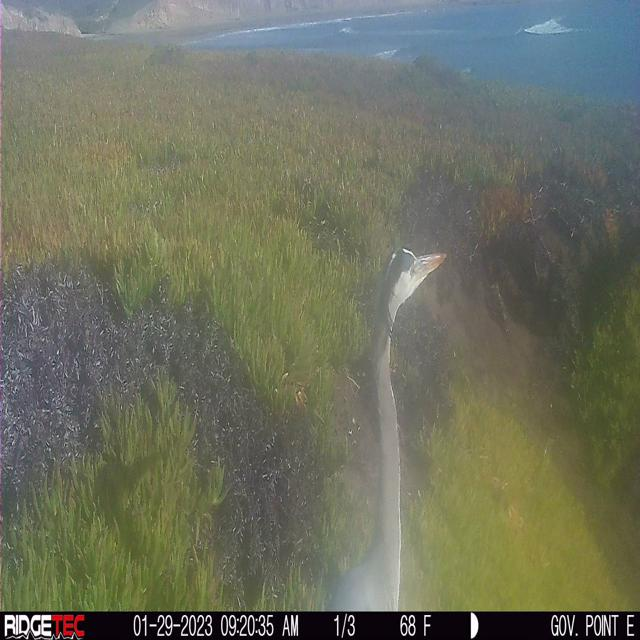bird: (326, 245, 449, 611)
